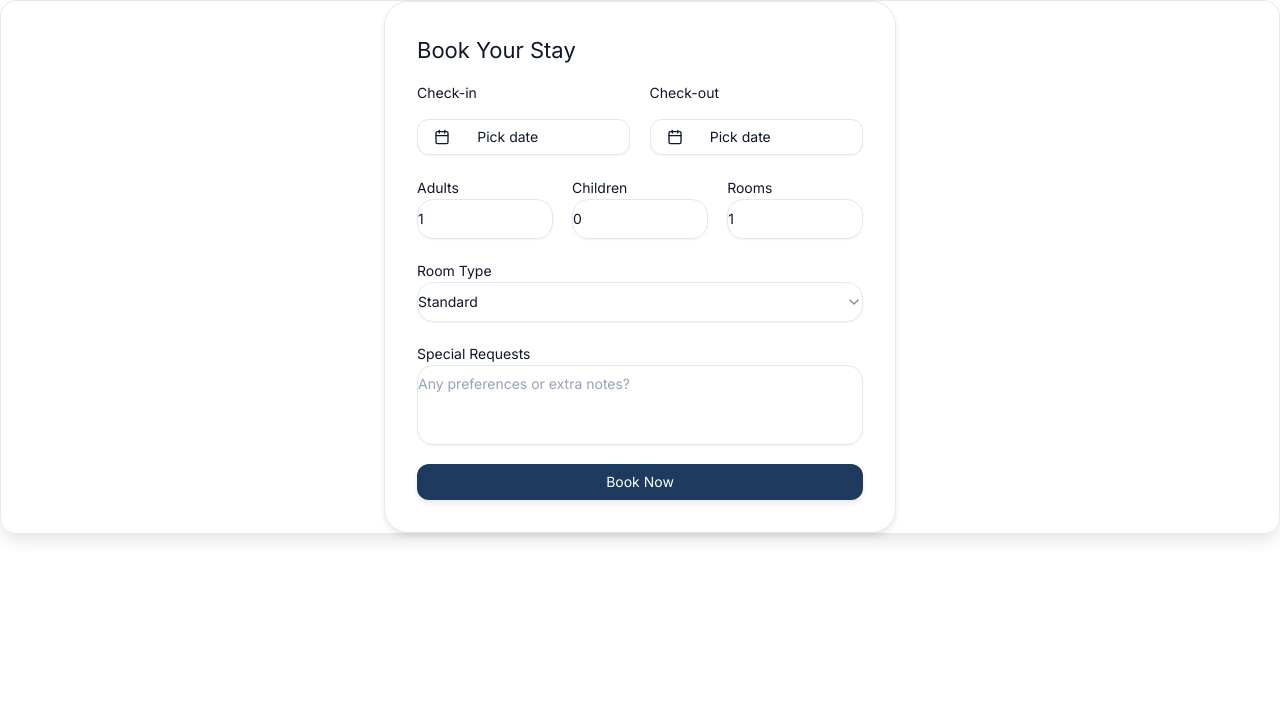
Error Handling Integration › Form Validation Error Handling › should handle booking widget validation errors
This screenshot has width=1280, height=720.
Submit without filling required fields
Click the button "Book Now" at (640, 482), box left=417, top=464, right=863, bottom=500
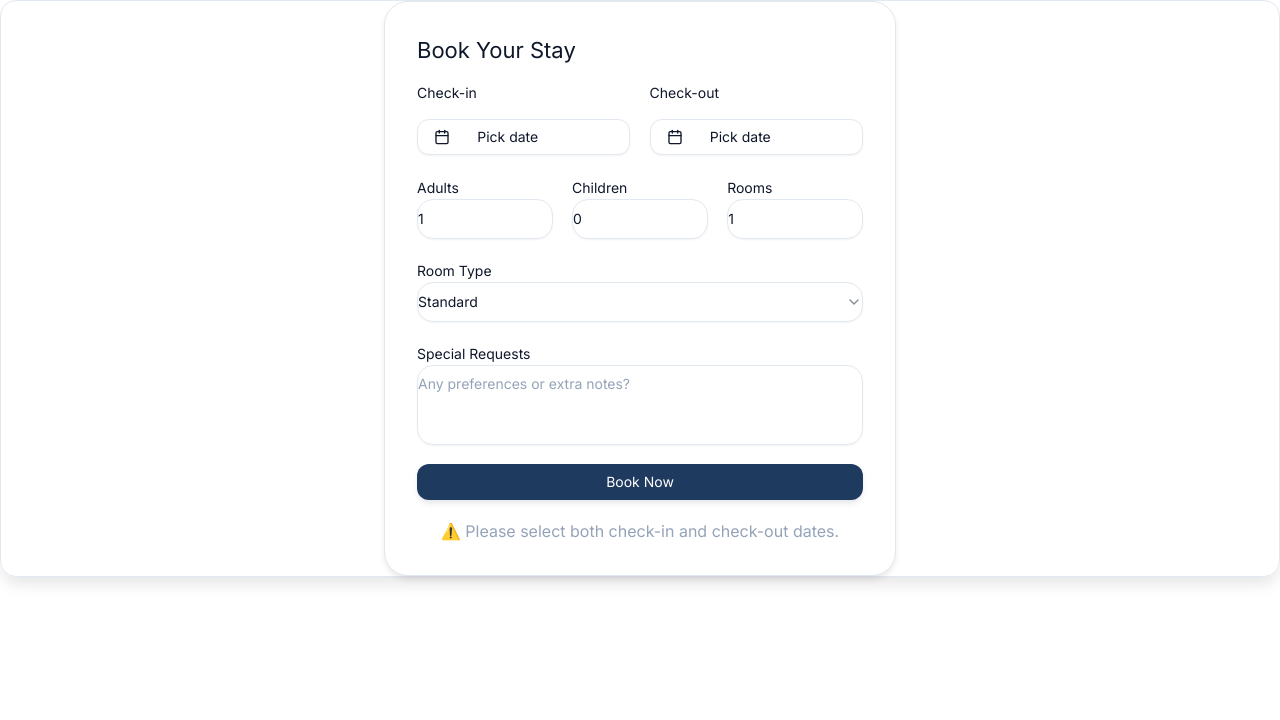
Expected: the number field labelled "Adults" is shown, left=417, top=199, right=553, bottom=239
Result: the text "⚠️ Please select both check-in and check-out dates." is shown at left=417, top=519, right=863, bottom=543
